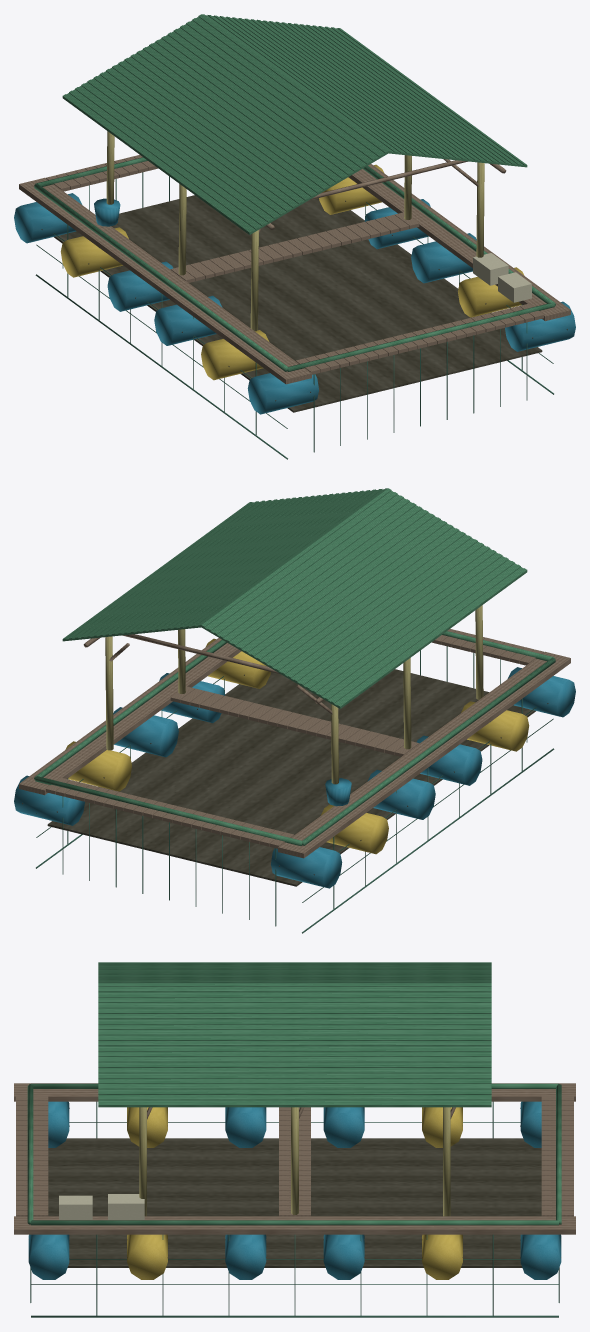
Rendered from bung-raft-2-green.glb.
3 views of the same model, one above another, from view 1: azimuth 30°, elevation 25°; view 2: azimuth 150°, elevation 25°; view 3: azimuth 270°, elevation 25° (orthographic). The views are drawn at different scales.
Parts seen in each view (by area): view 1: bung-raft-2-green; view 2: bung-raft-2-green; view 3: bung-raft-2-green.
Part boxes in pixels (left/top/right/bottom): bung-raft-2-green: left=14, top=14, right=575, bottom=459; bung-raft-2-green: left=14, top=488, right=575, bottom=933; bung-raft-2-green: left=14, top=962, right=575, bottom=1317.
Size of the model in its own units: 5.34 by 4.18 by 8.
Materials: 1 (1 with a texture image).
